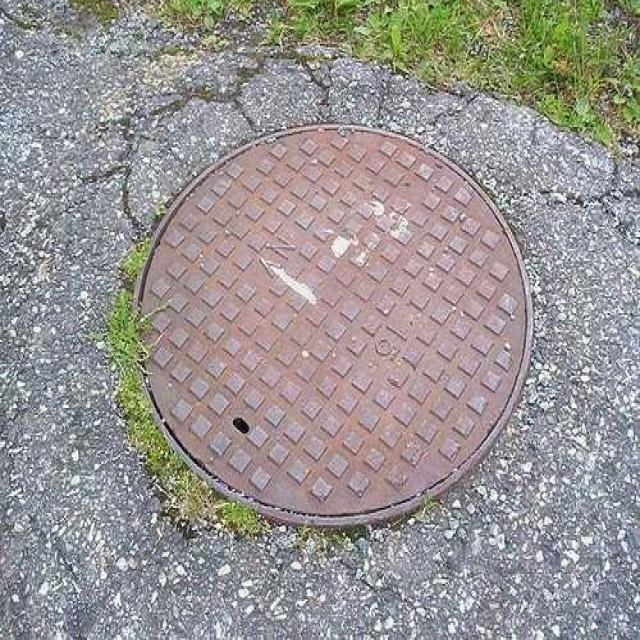manhole: (139, 126, 531, 525)
